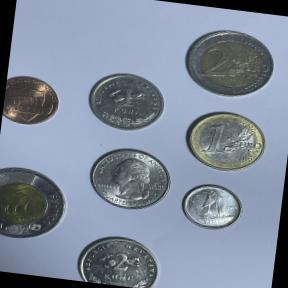1 Euro: (178, 104, 272, 178)
2 Euro: (177, 20, 284, 107)
Canda-10cent-: (175, 176, 249, 237)
Canda-2Dollar-: (0, 161, 76, 248)
Croatia-2Kune-: (70, 228, 168, 288)
US-1cent-: (2, 69, 66, 133)
US-25cent-: (80, 140, 180, 217)
